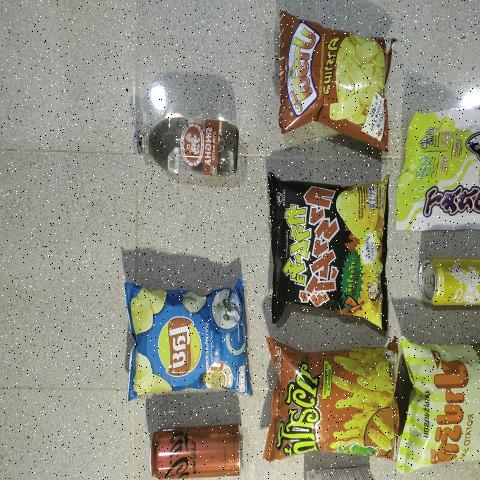coke_red: (151, 422, 246, 479)
karamujo: (274, 184, 382, 318)
lay_blue: (128, 287, 244, 395)
party_red: (285, 32, 389, 136)
singha_soda: (130, 116, 241, 177)
singha_yellow: (418, 259, 480, 310)
twisco: (274, 351, 391, 453)
